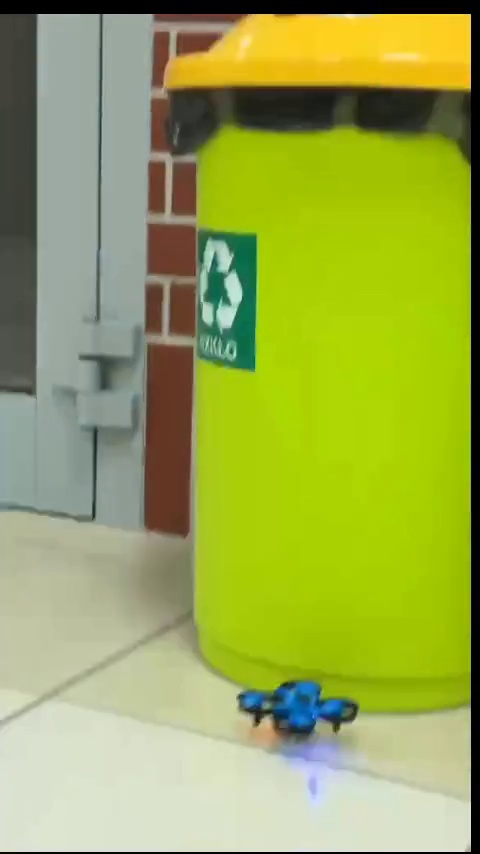drone: (241, 674, 359, 742)
